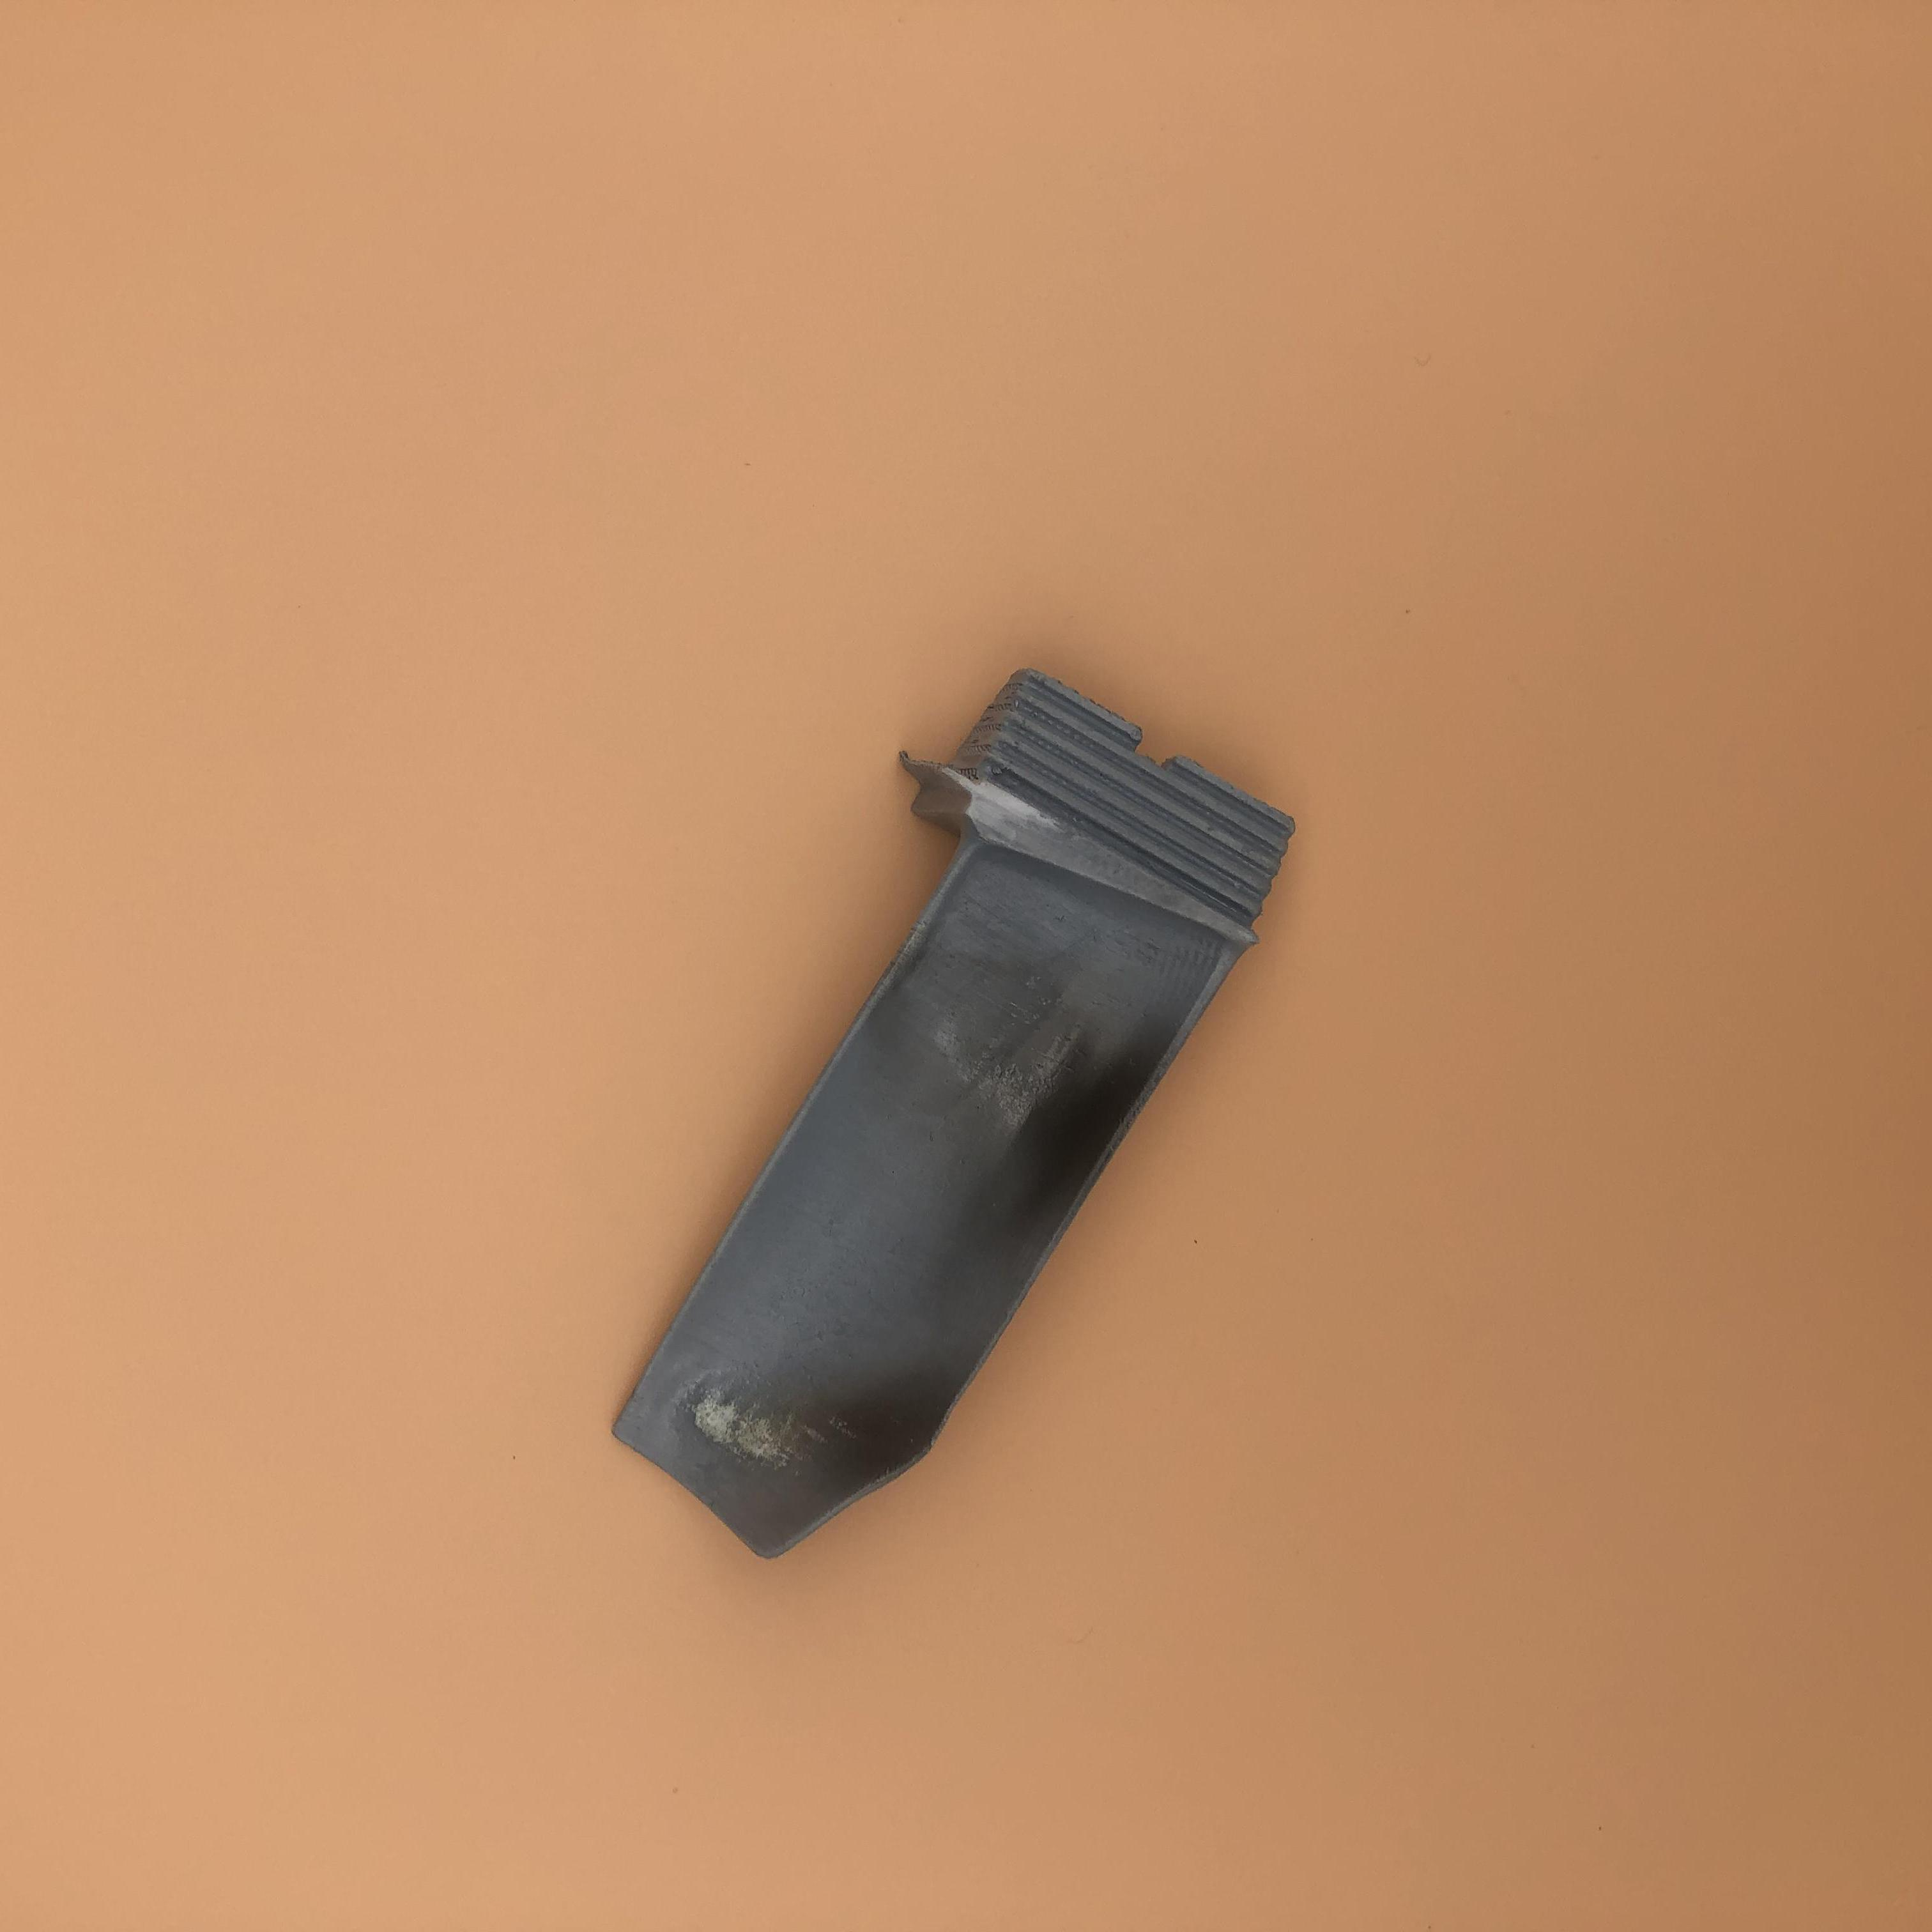ablation: (909, 941, 1166, 1210), (683, 1373, 968, 1479)
